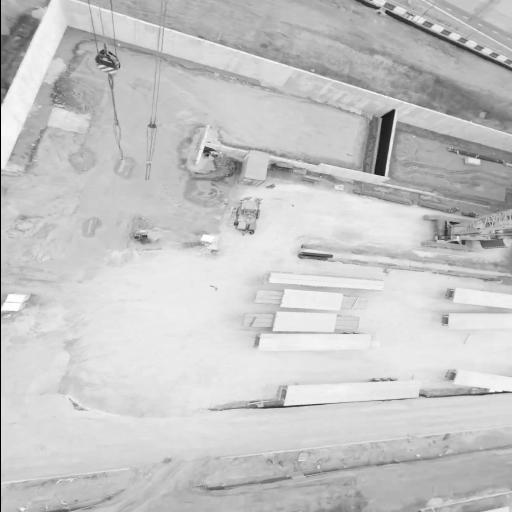uav: (208, 284, 218, 292)
